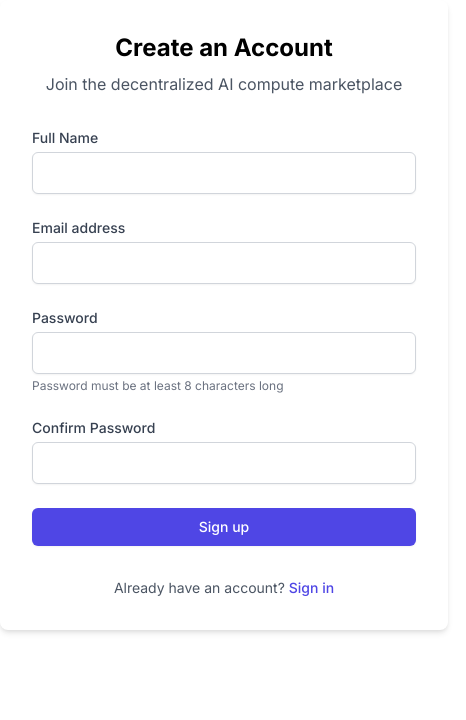
SignUpForm › handles sign up error
# Fill in the form
Step 1. Type "Test User" into the field labelled "Full Name" → [224, 173], box [32,152,416,194]
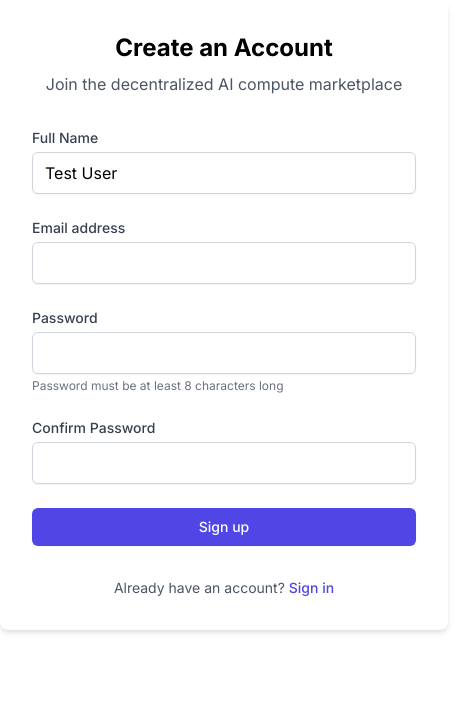
Step 2. Type "test@example.com" into the field labelled "Email address" → [224, 263], box [32,242,416,284]
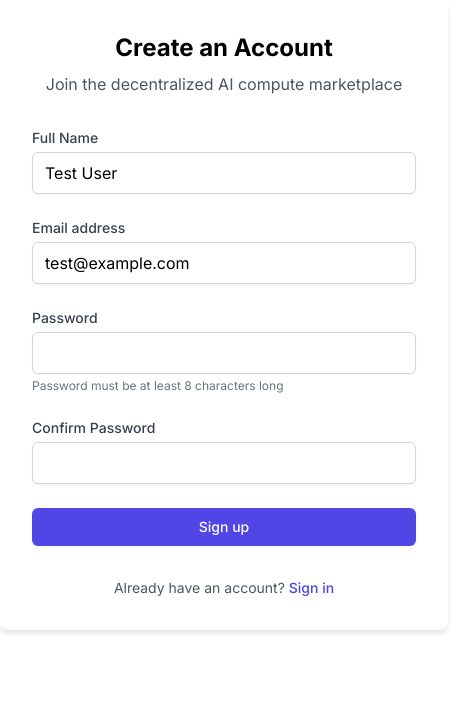
# Use a more specific selector to avoid ambiguity with multiple password fields
Step 3. Type "password123" into the password field labelled "Password" → [224, 353], box [32,332,416,374]
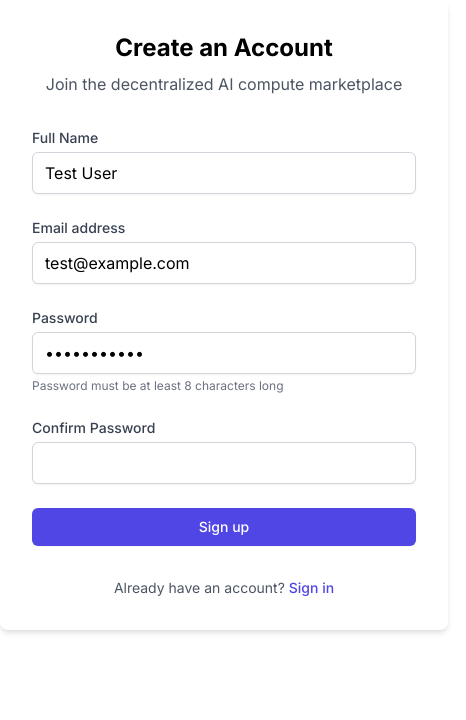
Step 4. Type "password123" into the password field labelled "Confirm Password" → [224, 463], box [32,442,416,484]
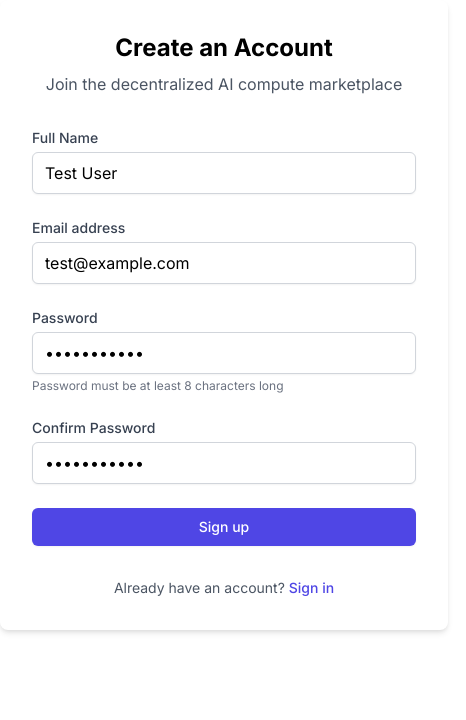
# Submit the form
Step 5. Click the button "Sign up" → [224, 527], box [32,508,416,546]
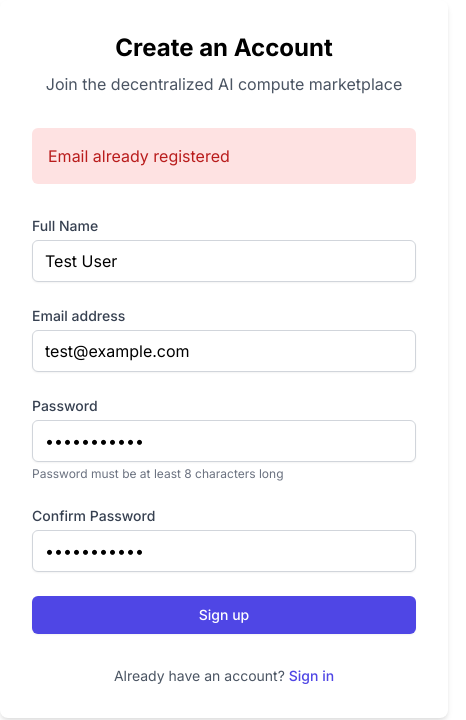
Expected: the text "Email already registered" is shown, [32,128,416,184]
